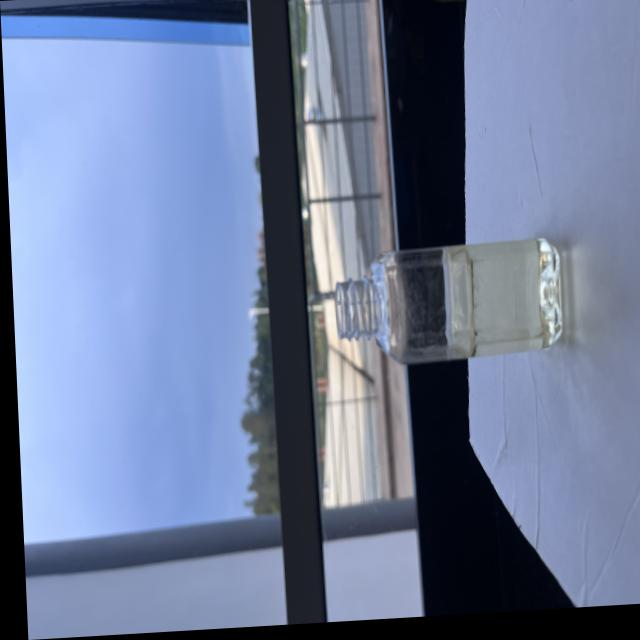oil: (441, 243, 558, 362)
